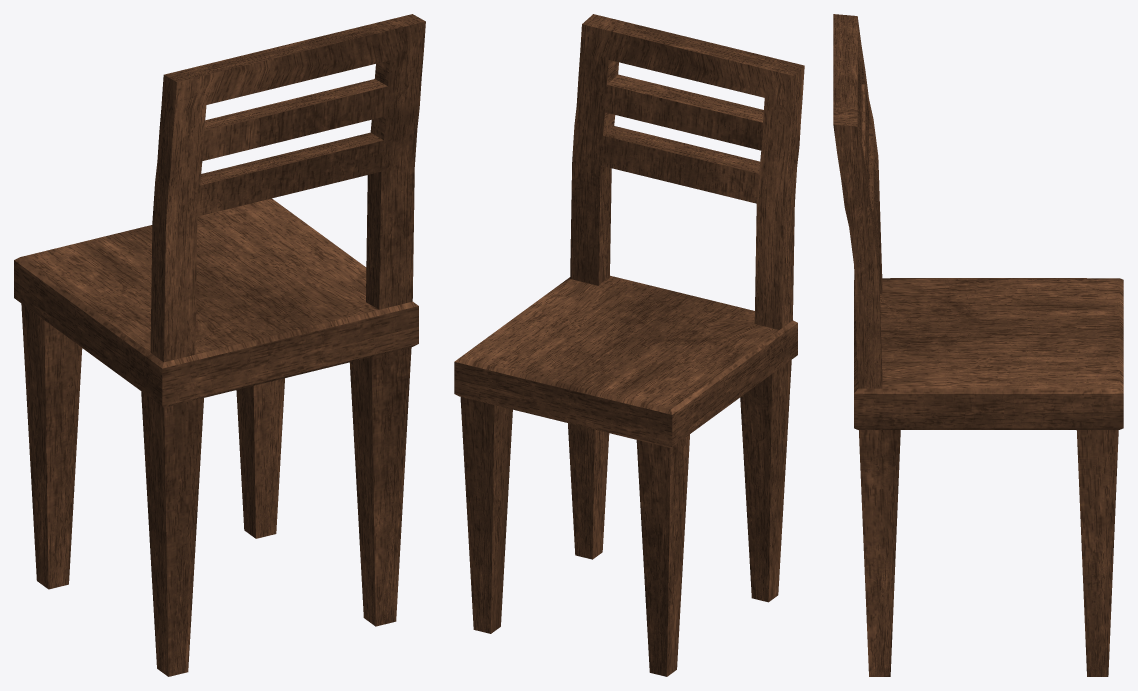
The model's file is chair.glb.
The picture shows the model from 3 angles, left to right: view 1: azimuth 30°, elevation 25°; view 2: azimuth 150°, elevation 25°; view 3: azimuth 270°, elevation 25°; orthographic projection. The views are drawn at different scales.
Parts seen in each view (by area): view 1: Object_2; view 2: Object_2; view 3: Object_2.
Boxes of the visible parts, left/top/right/bottom form: Object_2: left=14, top=14, right=425, bottom=676; Object_2: left=454, top=14, right=804, bottom=676; Object_2: left=833, top=14, right=1123, bottom=676.
Size of the model in its own units: 2.82 by 6.43 by 3.04.
1 material, 1 textured.
